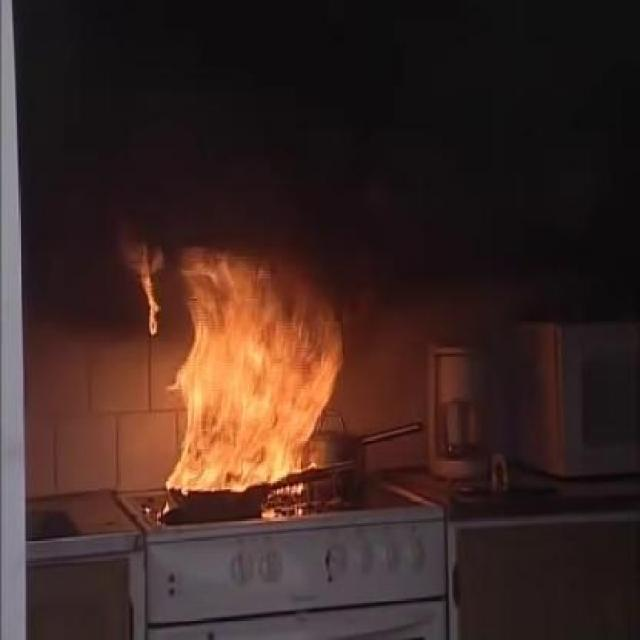fire: (168, 252, 357, 483)
